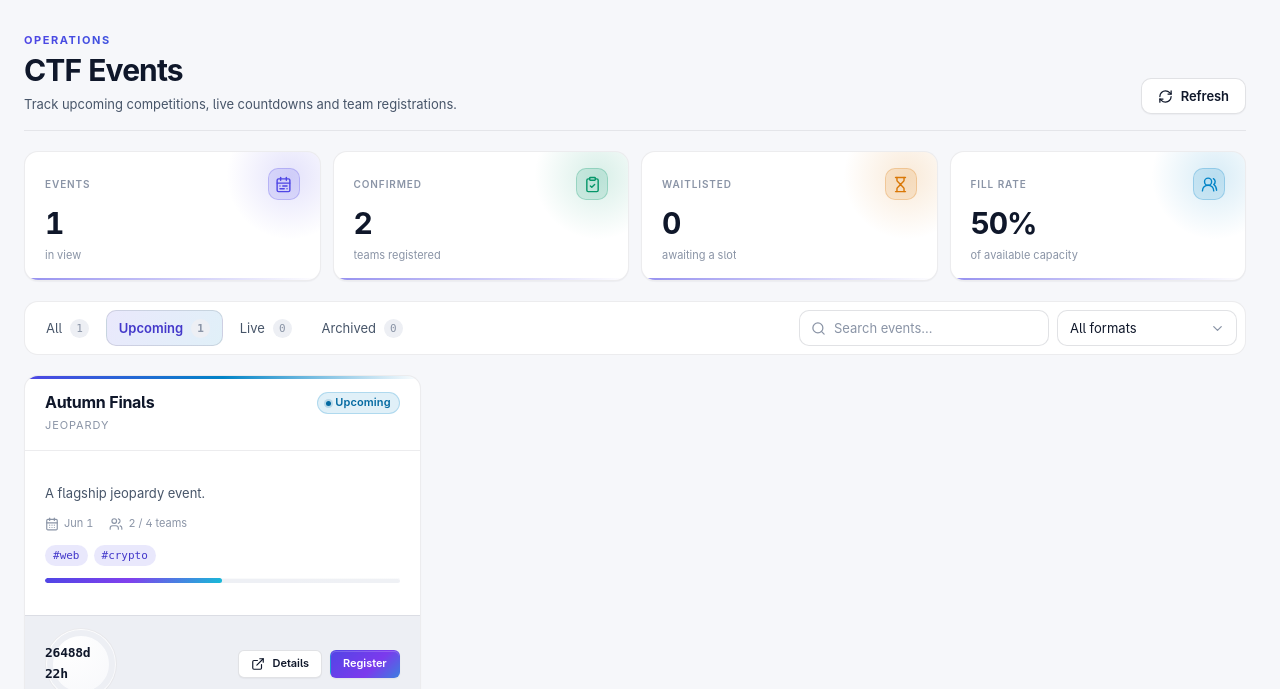
Test: EventsPage › registers a selected team through the dialog
Check: the heading "Autumn Finals" is shown, box [45,392,154,413]
Click the button "Register": (365, 664) [330,650,400,678]
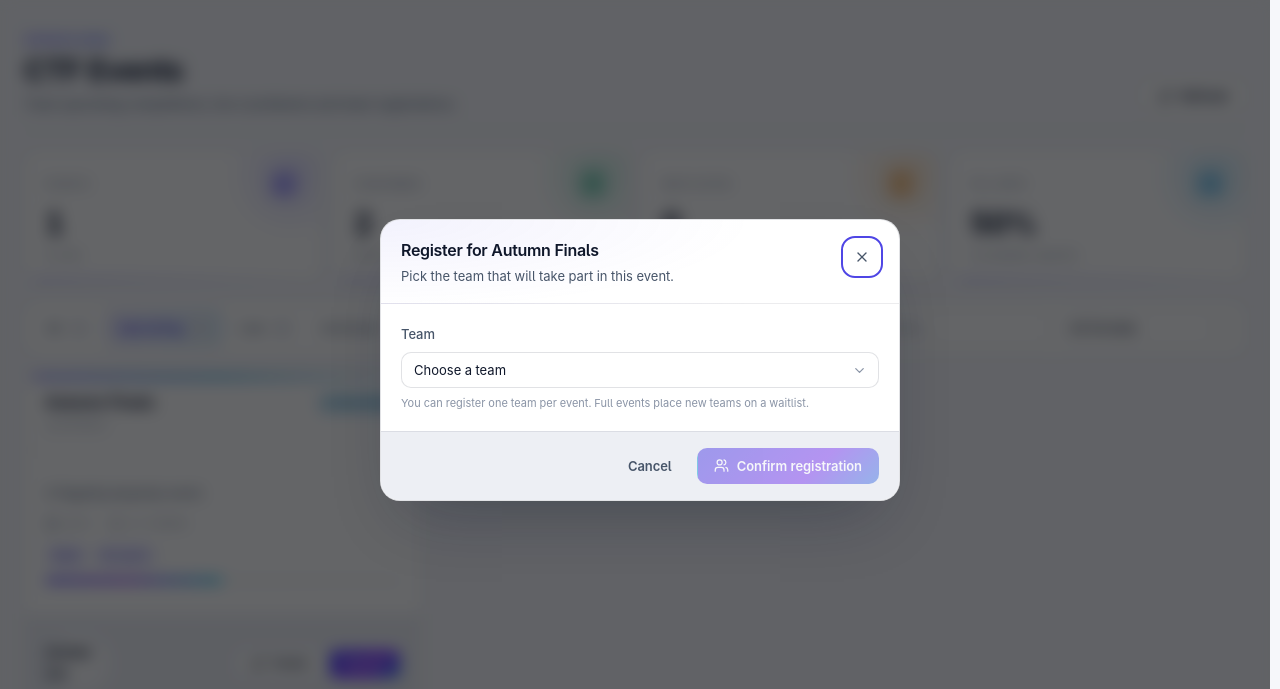
Check: the dialog is shown, box [380,219,900,501]
Select "Alpha Squad" in the dropdown labelled "Team": (640, 370) [401,352,879,388]
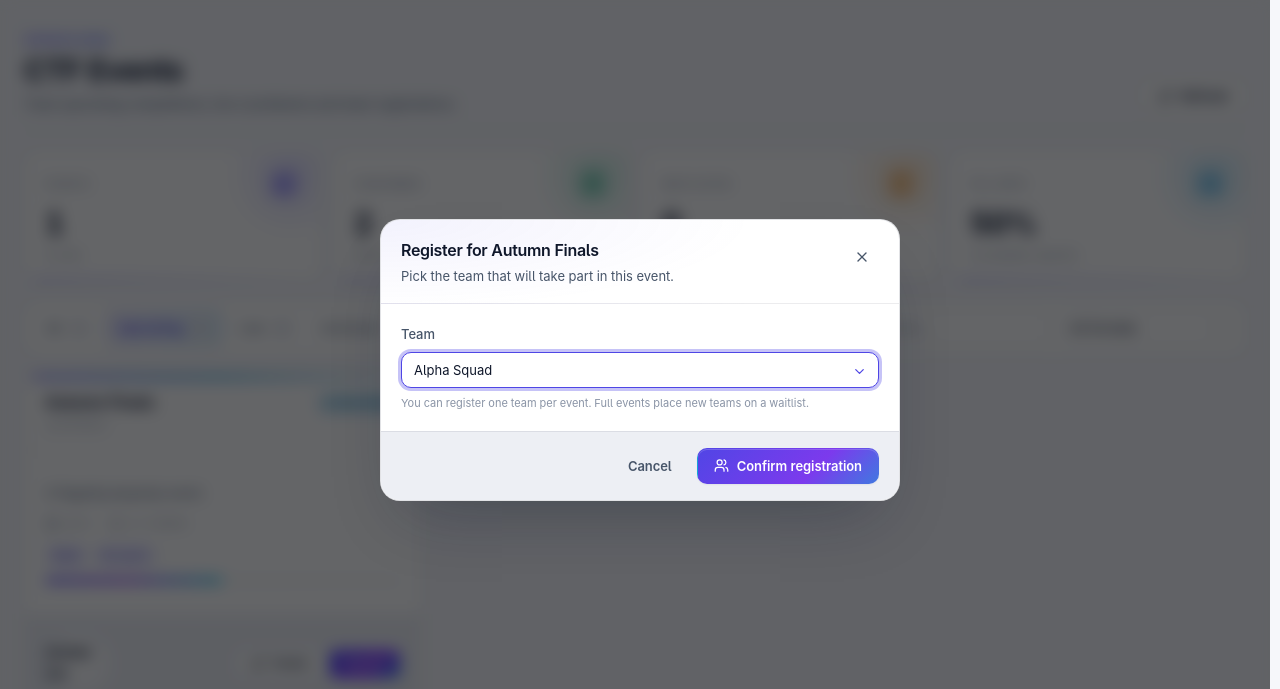
Click the button "Confirm registration": (788, 466) [697,448,879,484]
(page scrolled)
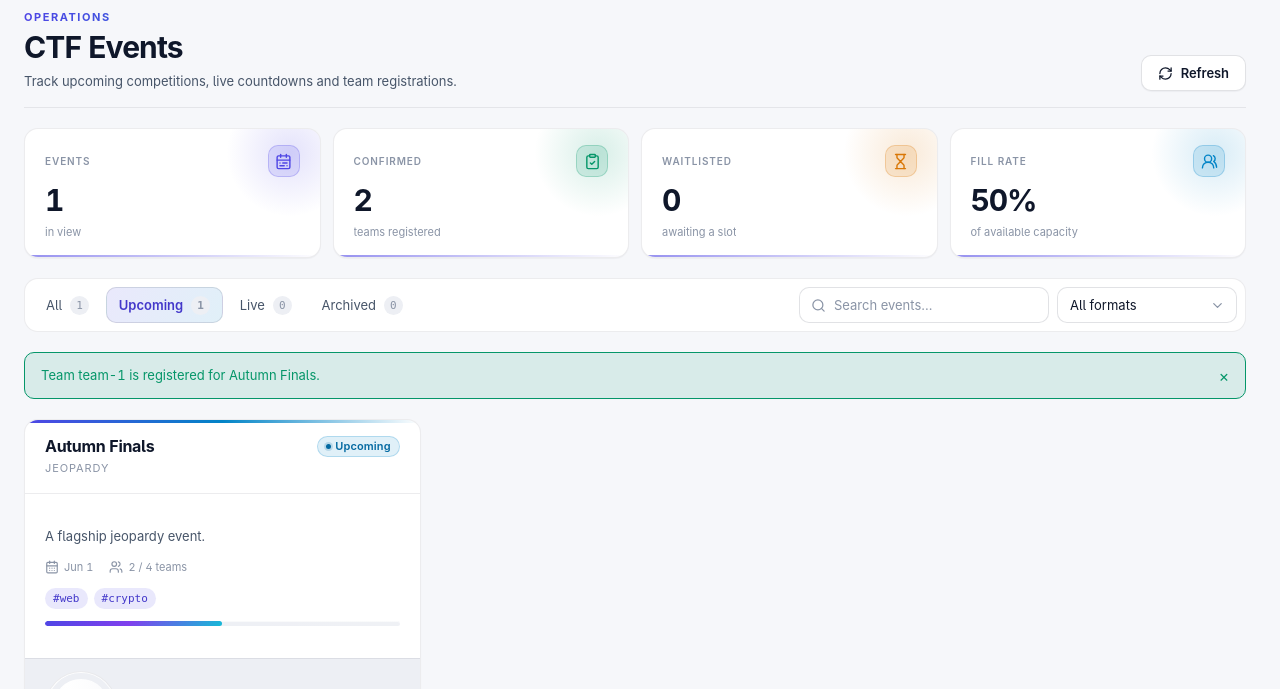
Check: the text "Team team-1 is registered for Autumn Finals. ×" is shown, box [24,352,1246,399]
